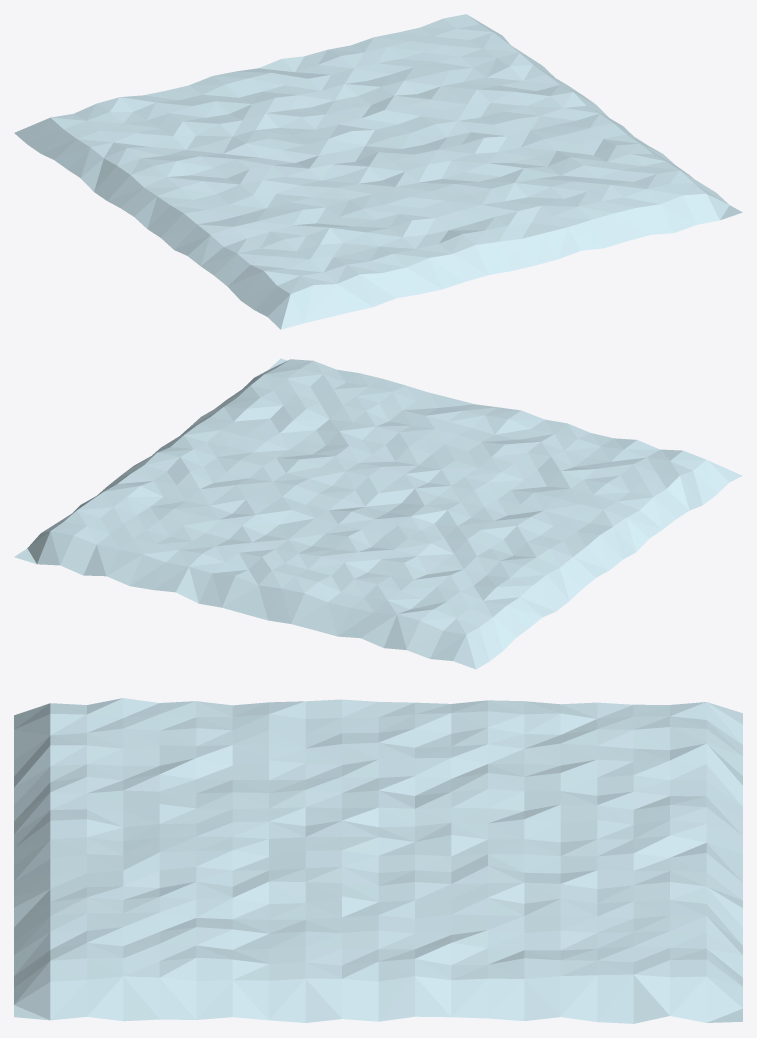
The model's file is SM_Env_Dirt_Tile_Large_02_Snow.fbx.
3 renders of one model, top to bottom at view 1: azimuth 30°, elevation 25°; view 2: azimuth 150°, elevation 25°; view 3: azimuth 270°, elevation 25°, orthographic. The views are drawn at different scales.
Visible parts, largest first — view 1: SM_Env_Dirt_Tile_Large_02_Snow; view 2: SM_Env_Dirt_Tile_Large_02_Snow; view 3: SM_Env_Dirt_Tile_Large_02_Snow.
Boxes of the visible parts, <box> form: SM_Env_Dirt_Tile_Large_02_Snow: <box>14,14,742,329</box>; SM_Env_Dirt_Tile_Large_02_Snow: <box>14,358,742,669</box>; SM_Env_Dirt_Tile_Large_02_Snow: <box>14,698,742,1023</box>.
Bounding box in the file's own units: 3000 × 161 × 3000.
